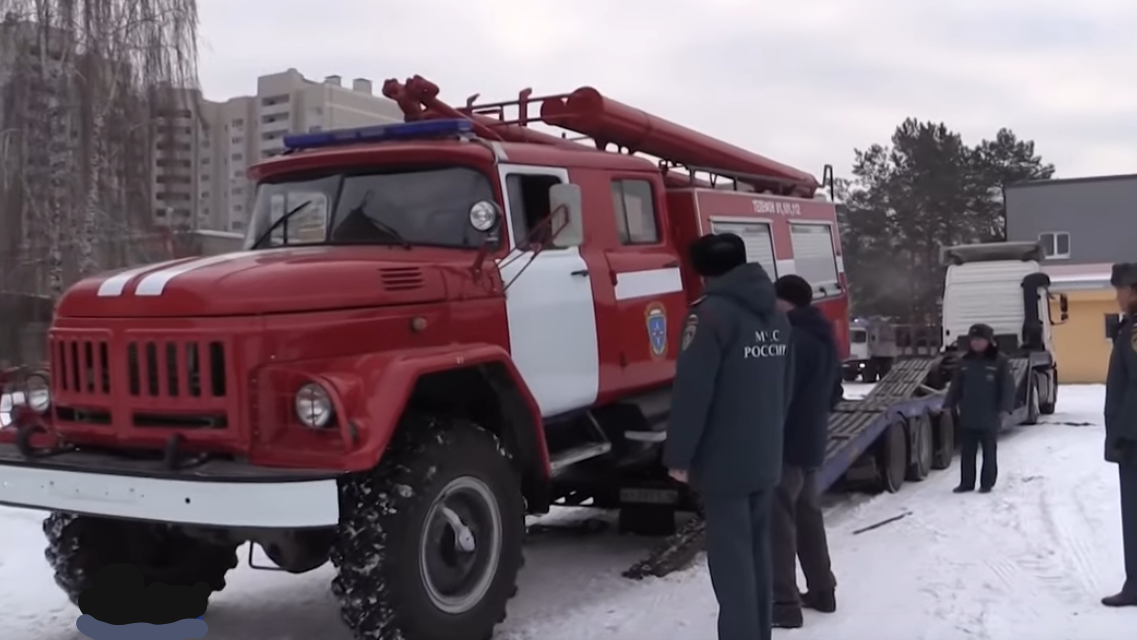fire fighting vehicle: (4, 75, 847, 631)
